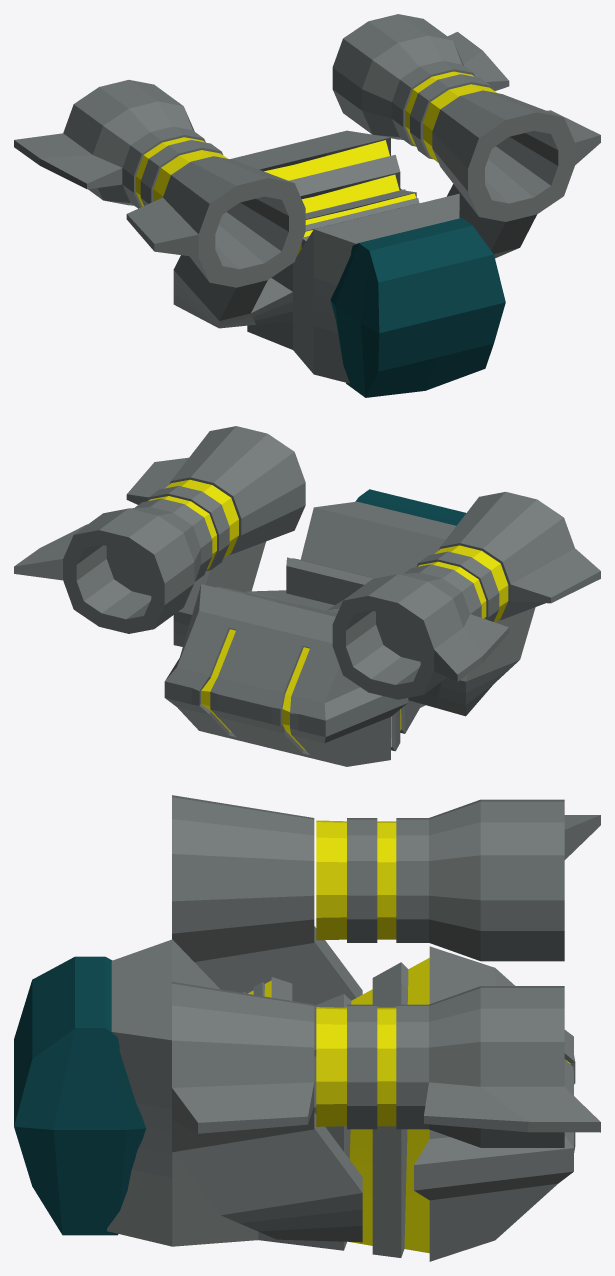
File: spaceship_3.fbx
3 views of the same model, one above another, from view 1: azimuth 30°, elevation 25°; view 2: azimuth 150°, elevation 25°; view 3: azimuth 270°, elevation 25° (orthographic). The views are drawn at different scales.
Visible parts, largest first — view 1: spaceship.002; view 2: spaceship.002; view 3: spaceship.002.
Boxes of the visible parts, x1=… form: spaceship.002: x1=14, y1=14, x2=600, y2=397; spaceship.002: x1=14, y1=426, x2=600, y2=766; spaceship.002: x1=14, y1=795, x2=600, y2=1261.
Size of the model in its own units: 759 by 347 by 609.
